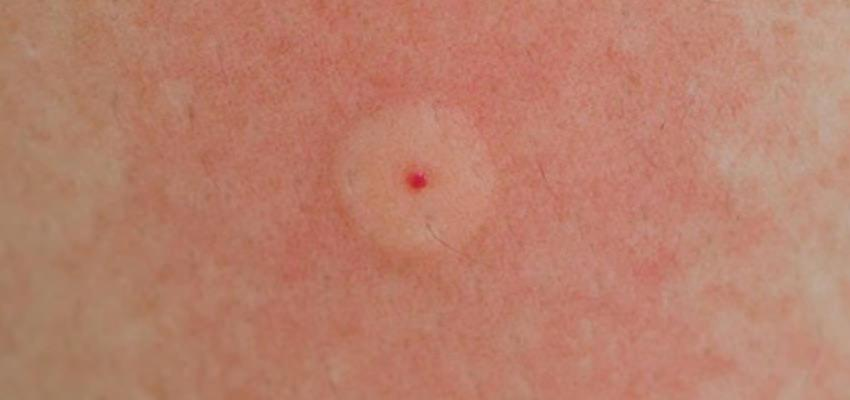Bee-bite: (342, 100, 491, 260)
